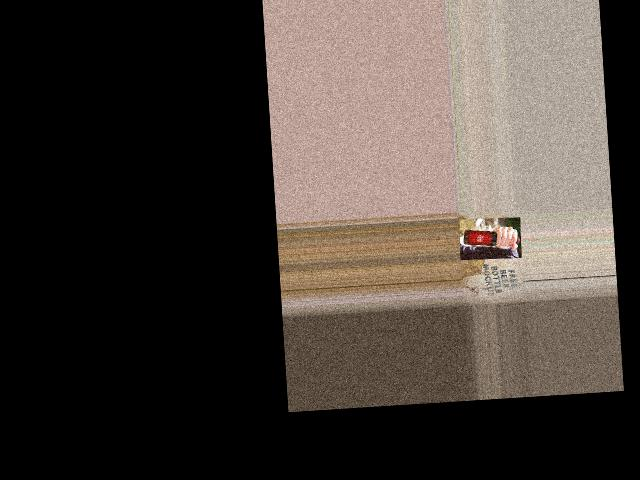beer: (462, 227, 519, 247)
